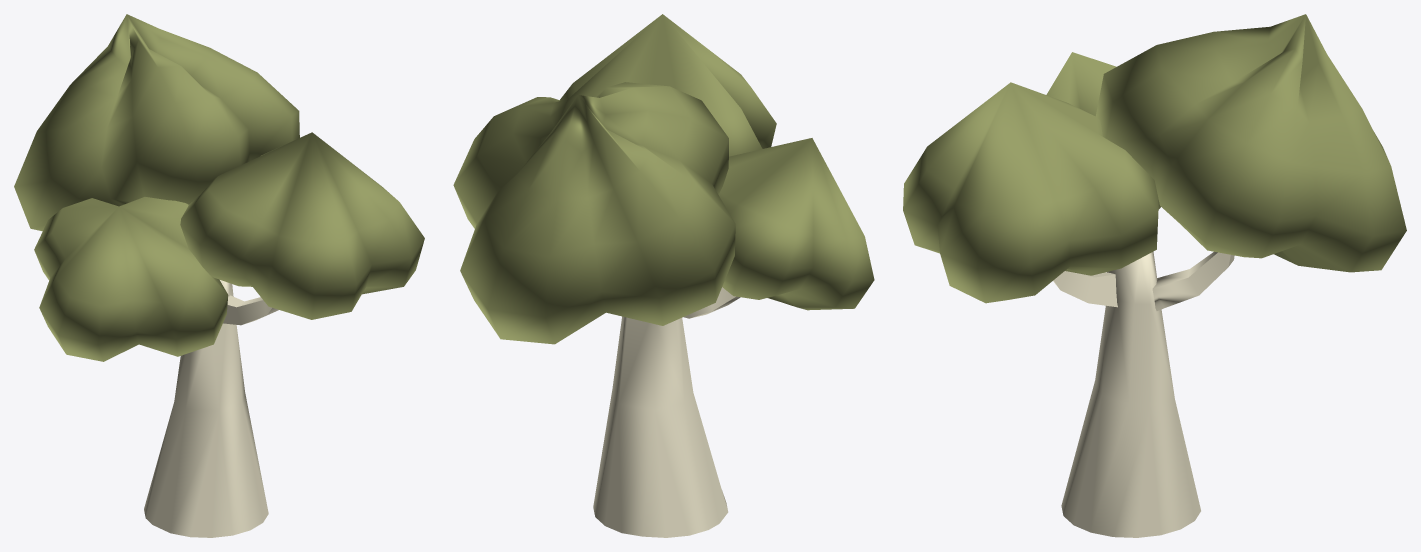
Rendered from tree4.fbx.
The picture shows the model from 3 angles, left to right: view 1: azimuth 30°, elevation 25°; view 2: azimuth 150°, elevation 25°; view 3: azimuth 270°, elevation 25°; orthographic projection. The views are drawn at different scales.
Parts seen in each view (by area): view 1: CrownGarlic01, CrownGarlic03, CrownGarlic02, TreeGarlic16_4; view 2: CrownGarlic01, TreeGarlic16_4, CrownGarlic02, CrownGarlic03; view 3: CrownGarlic01, CrownGarlic03, TreeGarlic16_4, CrownGarlic02.
Part boxes in pixels (bbox=[...]): CrownGarlic01: bbox=[14, 14, 299, 231]; CrownGarlic03: bbox=[180, 132, 424, 319]; CrownGarlic02: bbox=[34, 197, 228, 361]; TreeGarlic16_4: bbox=[144, 280, 278, 537]; CrownGarlic01: bbox=[453, 82, 735, 344]; TreeGarlic16_4: bbox=[593, 287, 740, 537]; CrownGarlic02: bbox=[718, 138, 874, 310]; CrownGarlic03: bbox=[560, 14, 776, 156]; CrownGarlic01: bbox=[1095, 14, 1406, 272]; CrownGarlic03: bbox=[903, 82, 1158, 303]; TreeGarlic16_4: bbox=[1053, 251, 1234, 537]; CrownGarlic02: bbox=[1046, 52, 1160, 209].
Size of the model in its own units: 13.75 by 17.88 by 16.55.
